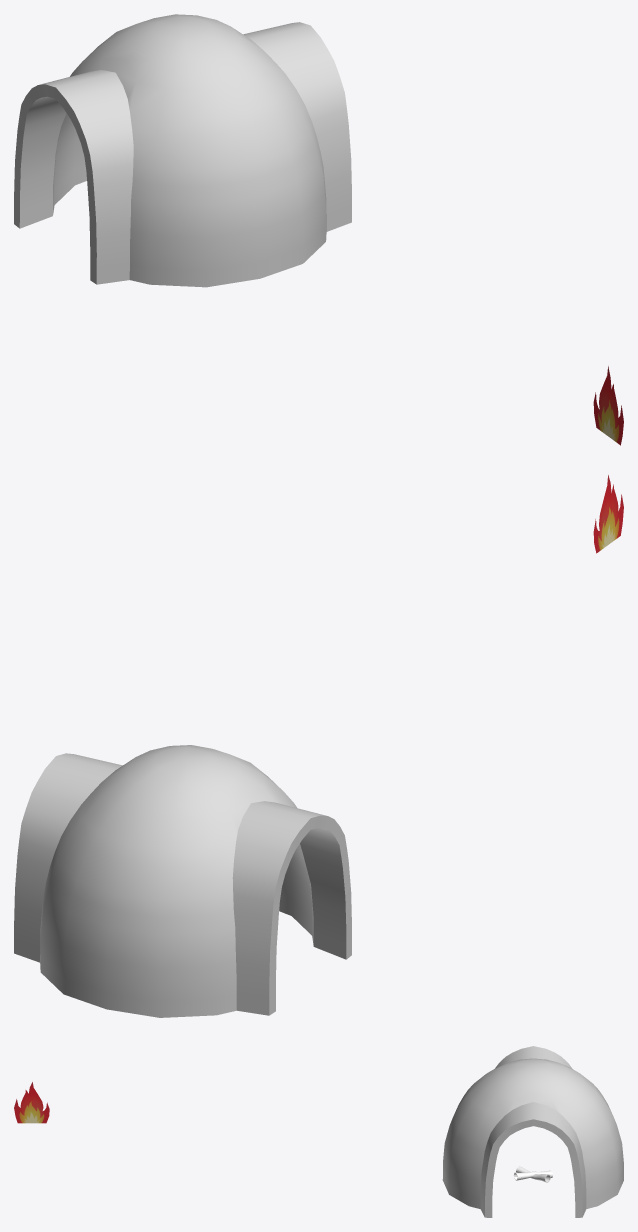
The model's file is casa de neve.glb.
3 views of the same model, one above another, from view 1: azimuth 30°, elevation 25°; view 2: azimuth 150°, elevation 25°; view 3: azimuth 270°, elevation 25° (orthographic). The views are drawn at different scales.
Parts seen in each view (by area): view 1: Iglu, Fogo_Malha; view 2: Iglu, Fogo_Malha; view 3: Iglu, Fogo_Malha.
Boxes of the visible parts, left/top/right/bottom form: Iglu: left=14, top=14, right=351, bottom=287; Fogo_Malha: left=593, top=366, right=623, bottom=445; Iglu: left=14, top=745, right=351, bottom=1017; Fogo_Malha: left=593, top=475, right=623, bottom=553; Iglu: left=442, top=1046, right=623, bottom=1217; Fogo_Malha: left=14, top=1082, right=49, bottom=1123.
Bounding box in the file's own units: 5.58 × 4.11 × 19.51.
3 materials, 1 textured.
